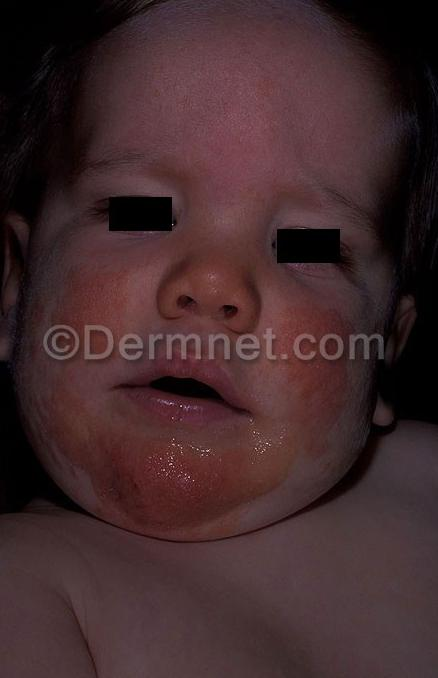Eritema 2: (24, 266, 361, 549)
